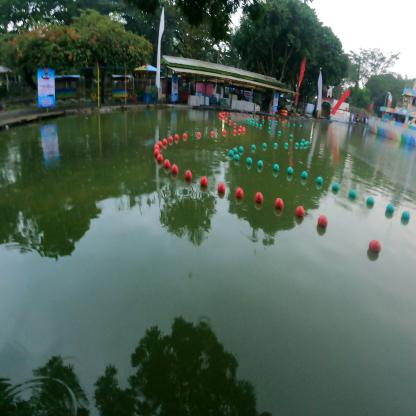green_buoy: (401, 210, 411, 220), (386, 202, 395, 212), (366, 196, 374, 205), (332, 182, 340, 190), (349, 189, 356, 197), (257, 159, 264, 167), (273, 163, 280, 171), (287, 166, 294, 174), (301, 170, 308, 178), (316, 176, 323, 184), (234, 153, 240, 160), (229, 148, 234, 156), (233, 146, 238, 152), (247, 157, 252, 163), (251, 144, 256, 149), (304, 141, 308, 146), (263, 142, 267, 147), (239, 146, 244, 150), (295, 142, 299, 146), (274, 142, 278, 146), (285, 142, 289, 146), (300, 142, 304, 146), (302, 138, 305, 142), (306, 141, 309, 145)
red_buoy: (368, 238, 381, 253), (294, 204, 306, 217), (274, 196, 284, 209), (254, 190, 264, 202), (318, 215, 327, 227), (235, 186, 244, 197), (200, 175, 208, 186), (218, 181, 226, 192), (171, 164, 179, 174), (184, 170, 192, 179), (164, 158, 171, 168), (156, 154, 164, 161), (153, 149, 160, 156), (154, 144, 159, 151), (162, 138, 167, 144), (183, 132, 187, 138), (174, 134, 178, 140), (169, 136, 173, 142), (158, 141, 162, 147), (242, 128, 246, 132), (210, 131, 214, 135), (198, 132, 202, 136), (229, 119, 232, 123), (239, 125, 242, 129), (238, 128, 241, 132), (233, 128, 236, 132), (223, 130, 226, 133), (233, 123, 236, 125)
